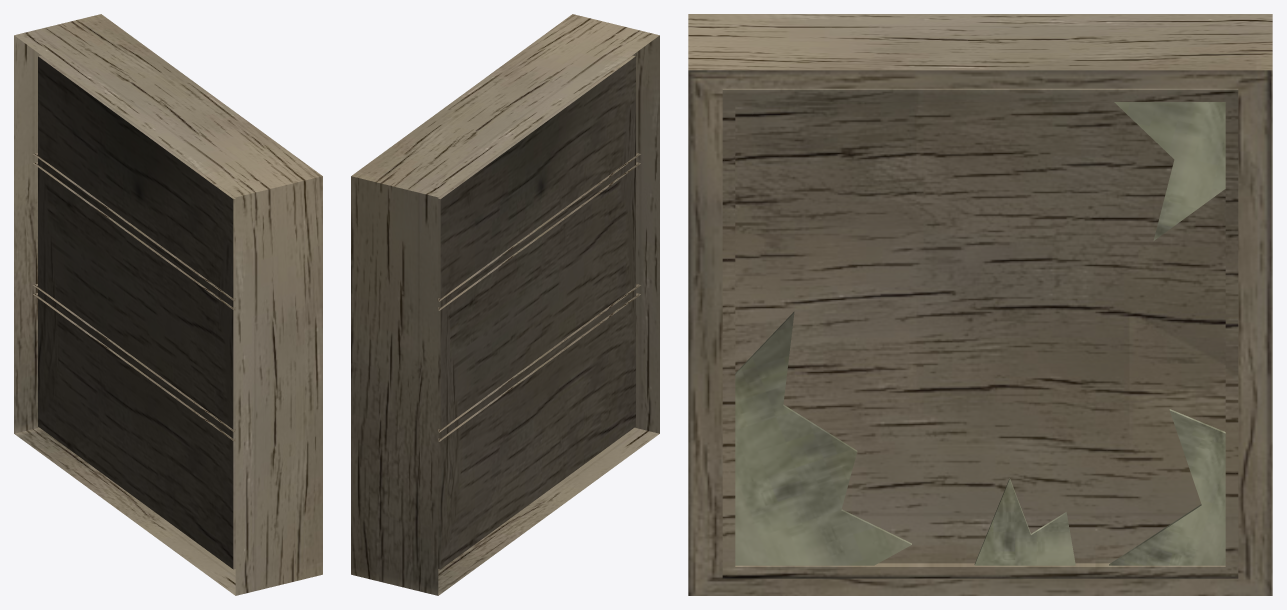
File: mirror.fbx
3 views of the same model, side by side, from view 1: azimuth 30°, elevation 25°; view 2: azimuth 150°, elevation 25°; view 3: azimuth 270°, elevation 25° (orthographic). The views are drawn at different scales.
Visible parts, largest first — view 1: meuble; view 2: meuble; view 3: portiere, meuble.
Part boxes in pixels (x1,y1,x2,y2): meuble: [14, 14, 322, 595]; meuble: [351, 14, 659, 595]; portiere: [722, 88, 1238, 578]; meuble: [688, 14, 1272, 595].
Size of the model in its own units: 19.08 by 81.34 by 81.97.
